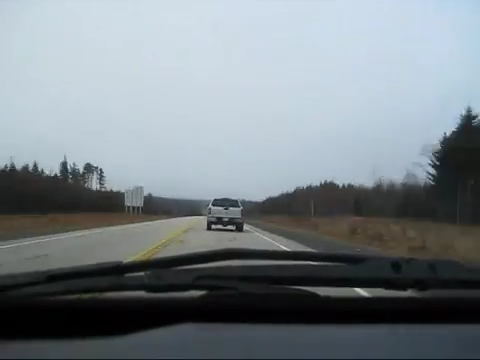car: (205, 196, 245, 231)
